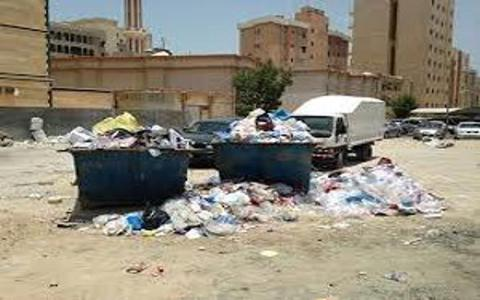overflowing garbage: (69, 125, 202, 244), (214, 111, 322, 244)
